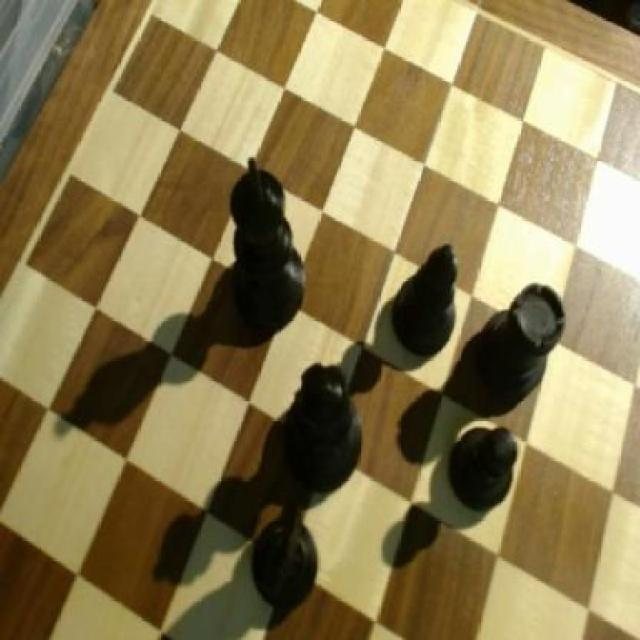bishop: (390, 237, 462, 356)
black-bishop: (228, 152, 310, 328)
black-king: (251, 489, 326, 604)
black-knight: (448, 423, 519, 510)
black-pawn: (286, 352, 367, 493)
black-queen: (482, 285, 566, 413)
